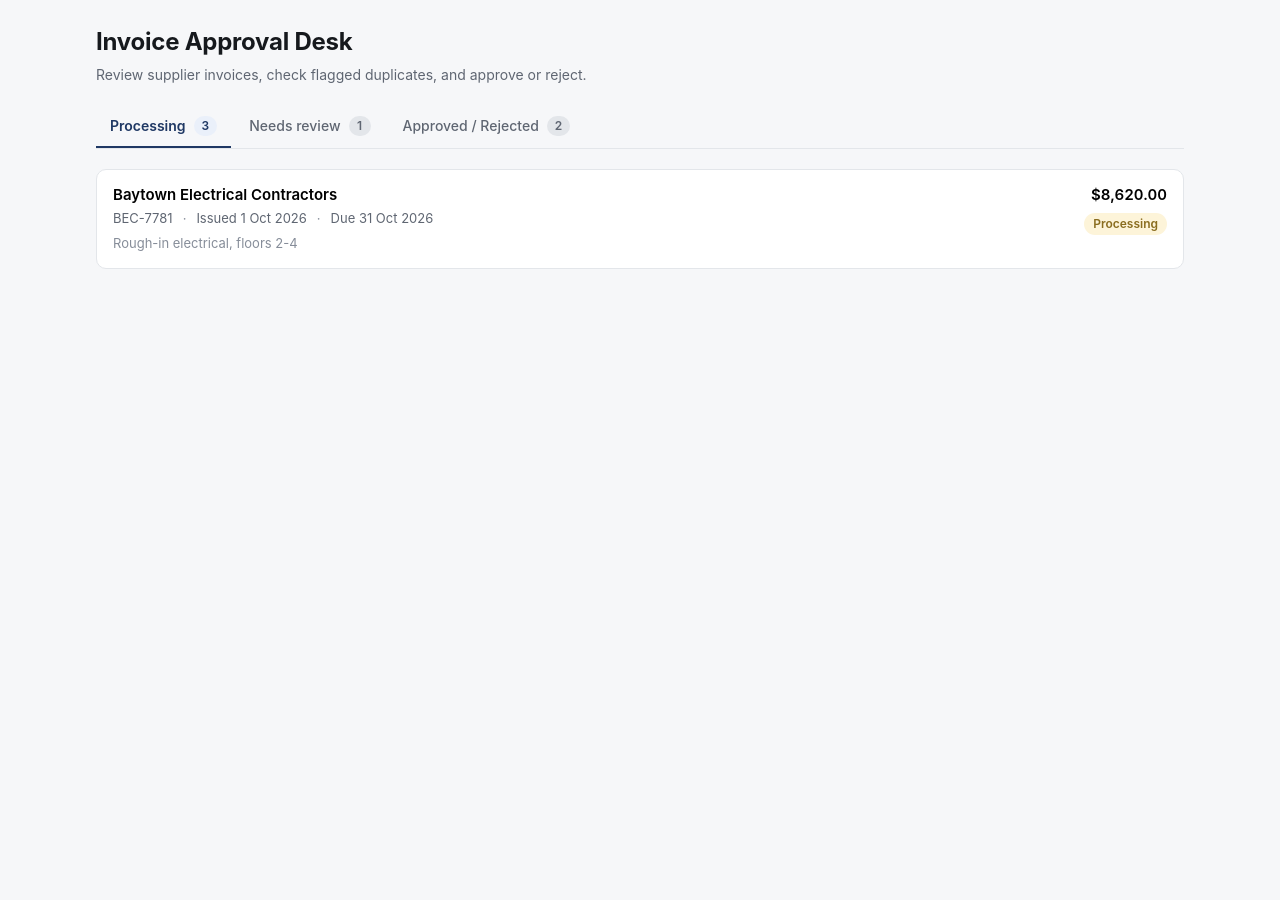
Scenario: approve and reject › surfaces a 409 and does not claim success
This screenshot has width=1280, height=900.
What coordinates should you click on to do the following:
click the button with aria-label "Open invoice BEC-7781"
I would click on:
 (225, 194)
Its box is x1=96 y1=169 x2=1184 y2=268.
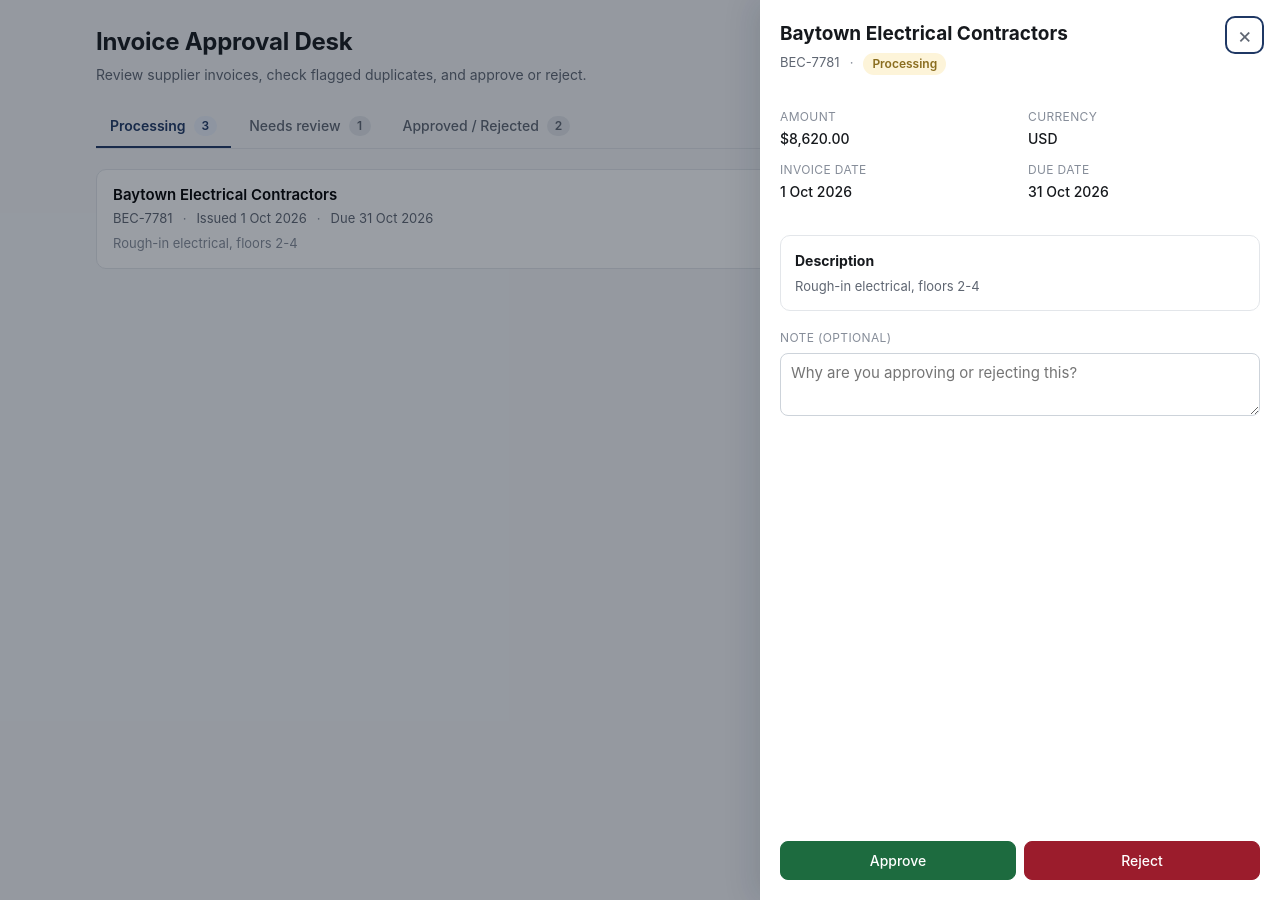
What coordinates should you click on to do the following:
click the button "Approve"
I would click on:
 (898, 860)
Its box is x1=780 y1=841 x2=1016 y2=880.
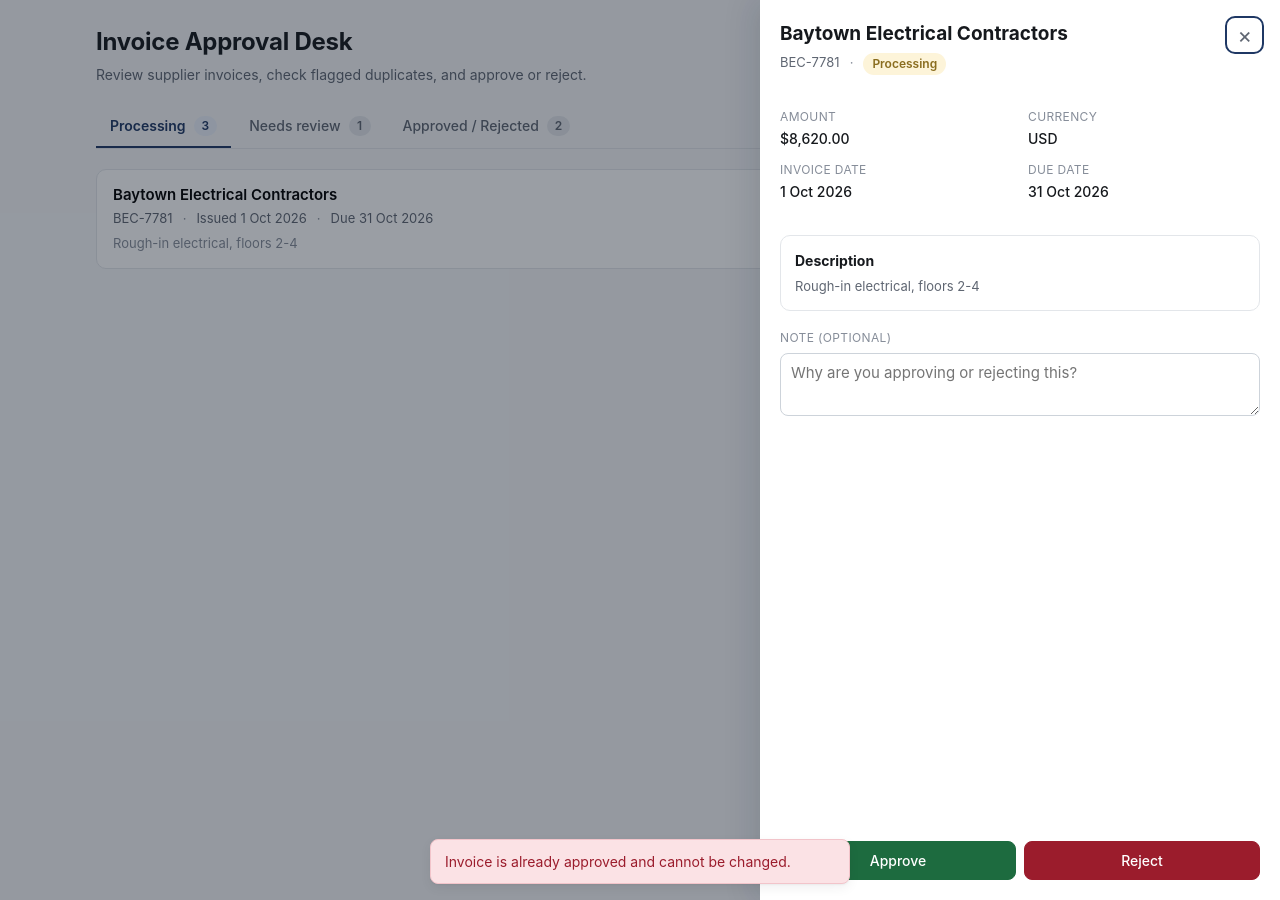
Check: the text "Invoice is already approved and cannot be changed." is shown, box x1=430 y1=839 x2=850 y2=884
